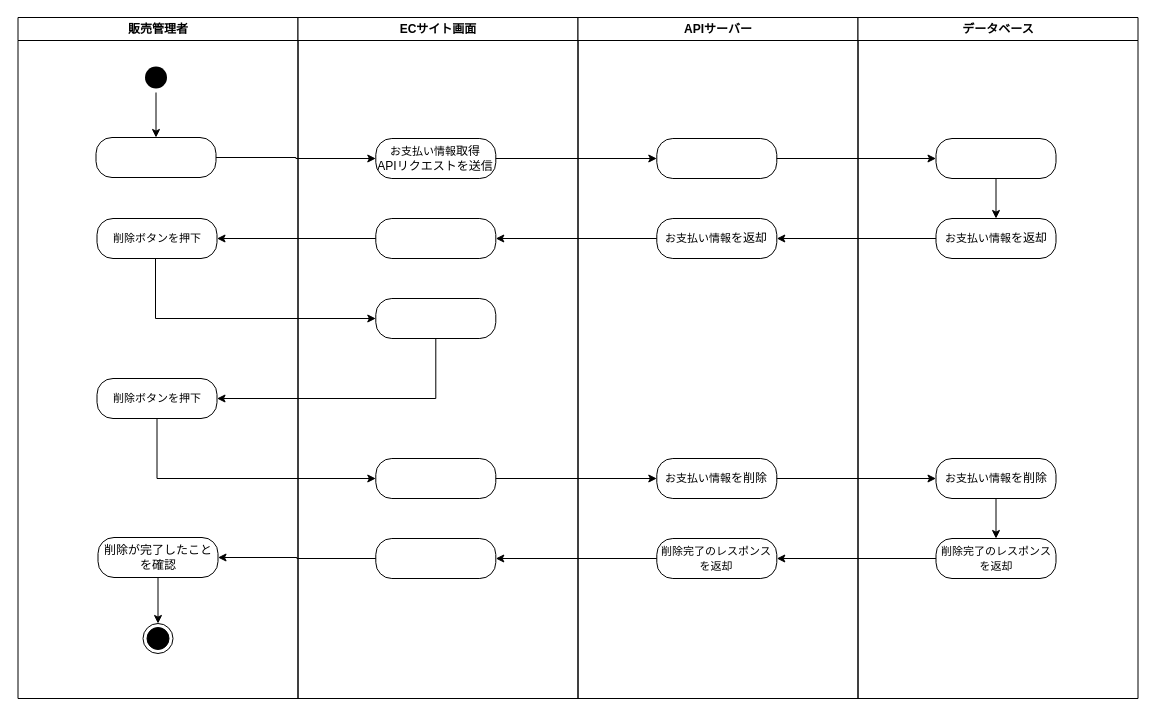
The diagram is 1155 pixels wide and 716 high, and some of its shapes have lost their labels. Here are the shapes that lost their labels. From the top down, the centre of each, then its label:
the point at 155,157: お支払い情報画面に アクセス
the point at 716,158: お支払い情報 を取得
the point at 995,158: お支払い情報 を検索
the point at 435,238: お支払い情報 画面を 表示
the point at 435,318: お支払い情報 編削除 ダイアログ を 表示
the point at 435,478: お支払い情報削除 APIリクエストを送信
the point at 435,558: お支払い情報 画面 に 削除完了の メッセージ を表示
